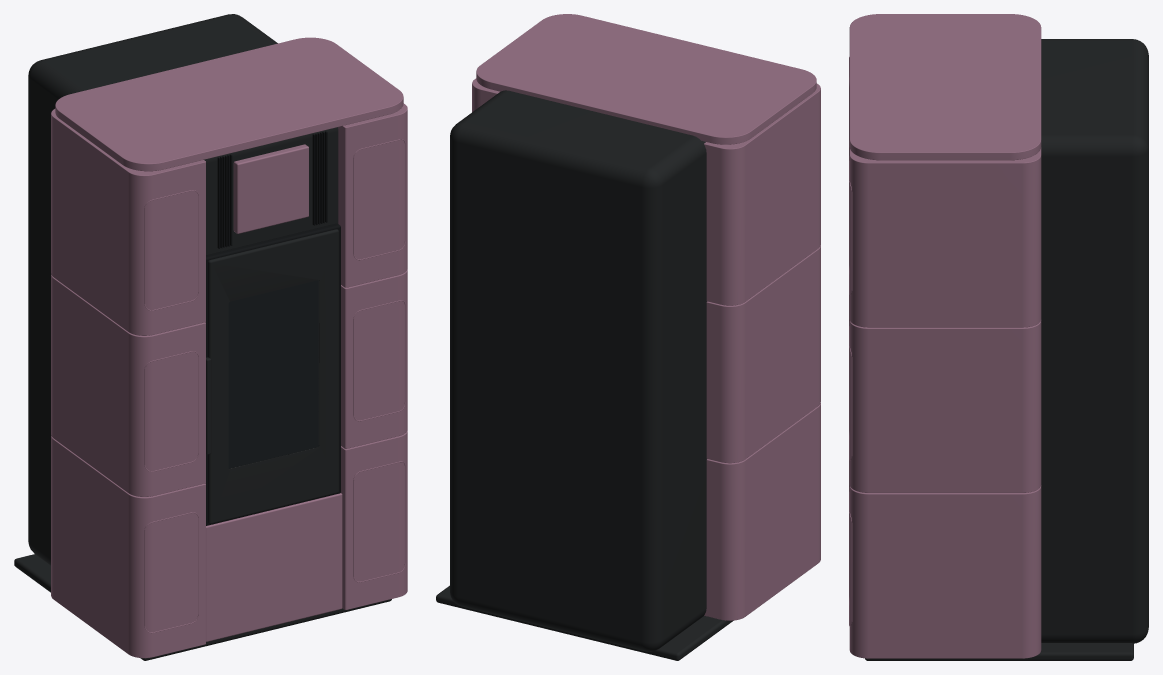
File: nordica-iside-idro-5016-vogue-ametista.glb
3 views of the same model, side by side, from view 1: azimuth 30°, elevation 25°; view 2: azimuth 150°, elevation 25°; view 3: azimuth 270°, elevation 25° (orthographic). The views are drawn at different scales.
Parts seen in each view (by area): view 1: Copertura superiore, Pannello maiolica.002, Pannello maiolica, Pannello maiolica.001, Corpo interno, Porta ghisa, Pannello inferiore, Vetro sportello, Pannello maiolica.005, Pannello maiolica.004, Pannello maiolica.003, Maiolica superiore (+3 smaller); view 2: Corpo interno, Copertura superiore, Pannello maiolica.002, Pannello maiolica, Pannello maiolica.001, Zoccolo; view 3: Corpo interno, Pannello maiolica.005, Pannello maiolica.003, Pannello maiolica.004, Copertura superiore, Zoccolo.
Part boxes in pixels (x1,y1,x2,y2): Copertura superiore: [55, 37, 403, 171]; Pannello maiolica.002: [51, 109, 205, 335]; Pannello maiolica: [51, 435, 205, 658]; Pannello maiolica.001: [51, 274, 205, 496]; Corpo interno: [28, 14, 338, 565]; Porta ghisa: [208, 229, 338, 524]; Pannello inferiore: [206, 493, 342, 641]; Vetro sportello: [228, 280, 318, 468]; Pannello maiolica.005: [338, 103, 407, 287]; Pannello maiolica.004: [341, 269, 407, 448]; Pannello maiolica.003: [340, 431, 407, 609]; Maiolica superiore: [233, 144, 308, 233]; Corpo interno: [450, 90, 707, 651]; Copertura superiore: [476, 14, 816, 144]; Pannello maiolica.002: [704, 83, 820, 305]; Pannello maiolica: [704, 403, 820, 620]; Pannello maiolica.001: [706, 245, 820, 463]; Zoccolo: [436, 585, 733, 660]; Corpo interno: [1041, 39, 1148, 643]; Pannello maiolica.005: [849, 147, 1041, 327]; Pannello maiolica.003: [849, 485, 1041, 658]; Pannello maiolica.004: [849, 320, 1041, 492]; Copertura superiore: [849, 14, 1041, 160]; Zoccolo: [865, 643, 1133, 660].
Size of the model in its own units: 0.69 by 1.2 by 0.6294.
